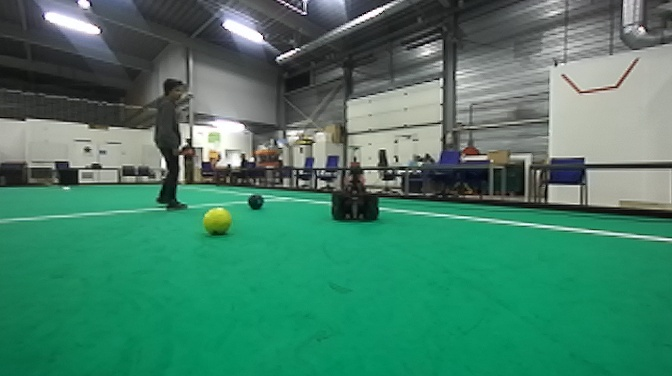ball: (201, 204, 233, 236), (247, 191, 266, 210)
human: (148, 76, 192, 215)
robot: (328, 139, 383, 225)
